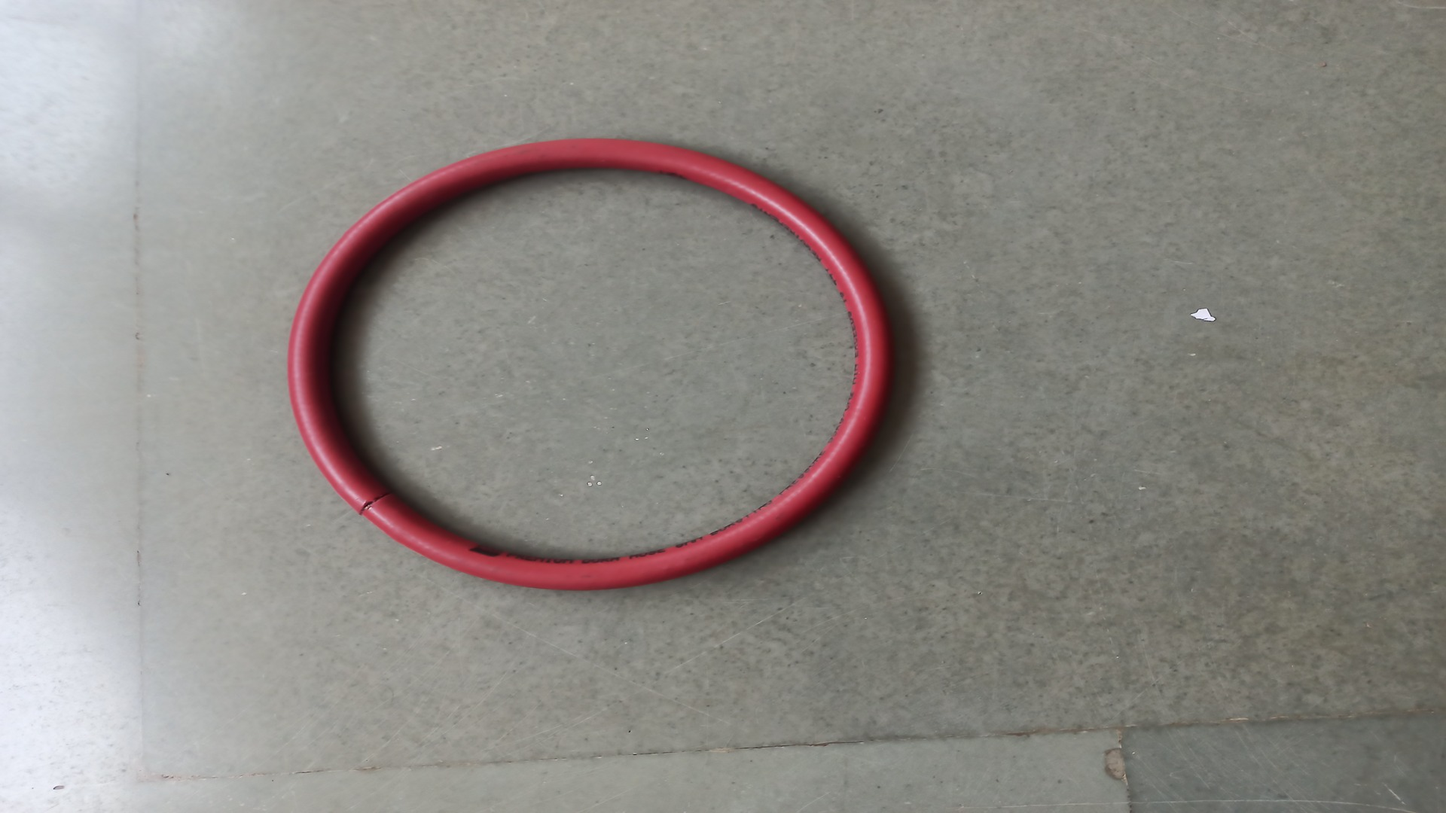Red ring: (284, 139, 888, 590)
